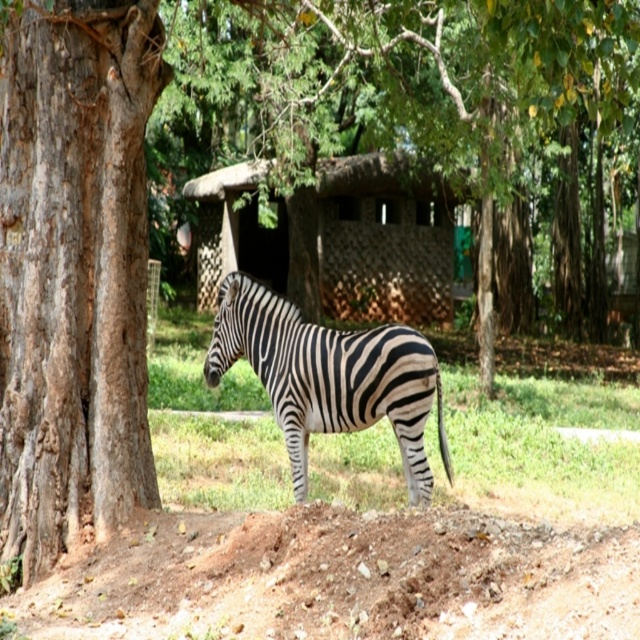Zebra: (203, 271, 455, 509)
